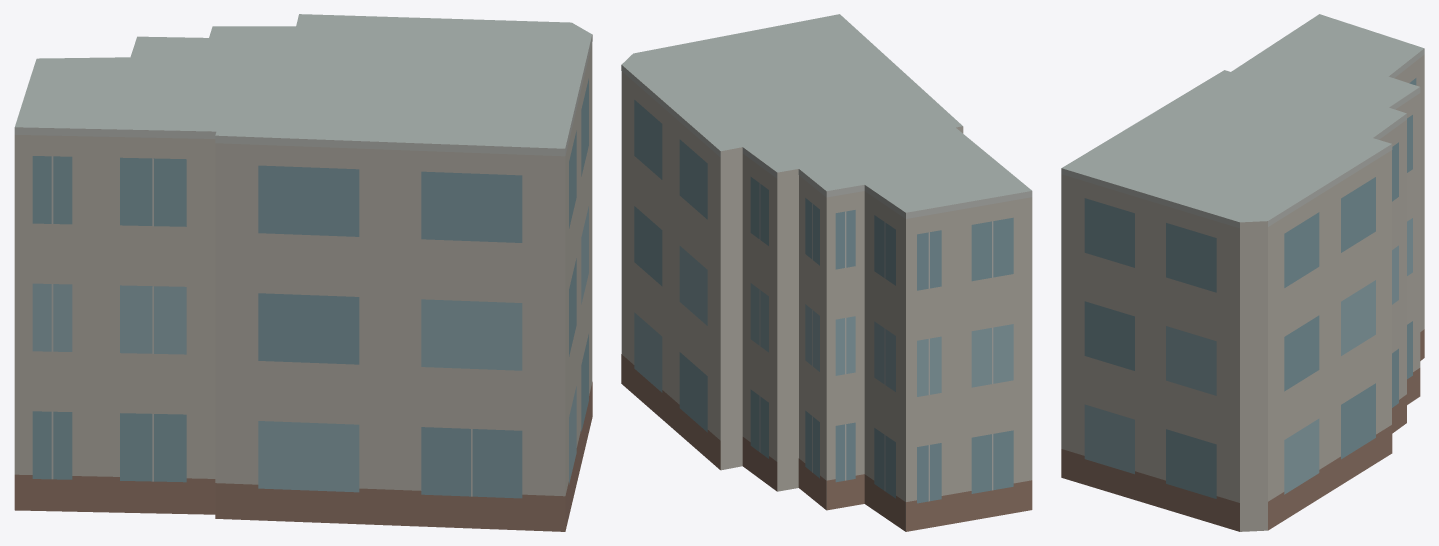
File: survey-upis-32803138.glb
3 renders of one model, left to right at view 1: azimuth 30°, elevation 25°; view 2: azimuth 150°, elevation 25°; view 3: azimuth 270°, elevation 25°, orthographic. The views are drawn at different scales.
Visible parts, largest first — view 1: survey-upis-32803138.tmp; view 2: survey-upis-32803138.tmp; view 3: survey-upis-32803138.tmp.
Part boxes in pixels (bbox=[...]): survey-upis-32803138.tmp: bbox=[14, 14, 592, 531]; survey-upis-32803138.tmp: bbox=[621, 14, 1032, 531]; survey-upis-32803138.tmp: bbox=[1061, 14, 1424, 531].
Size of the model in its own units: 17.91 by 12.4 by 13.19.
